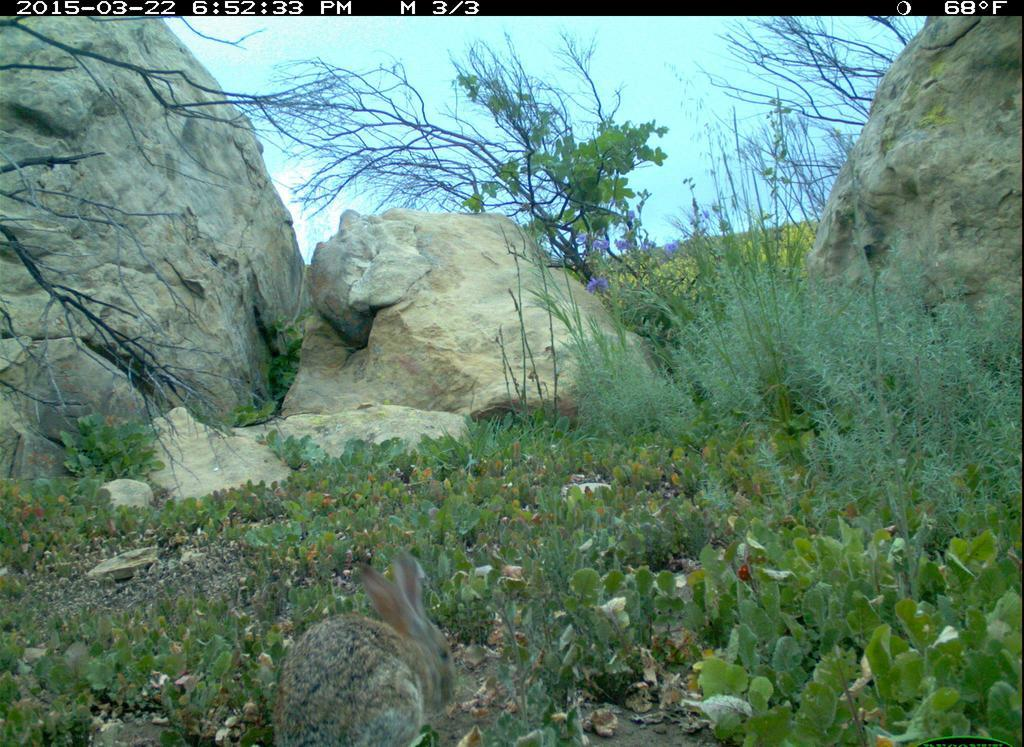rabbit: (200, 536, 464, 747)
